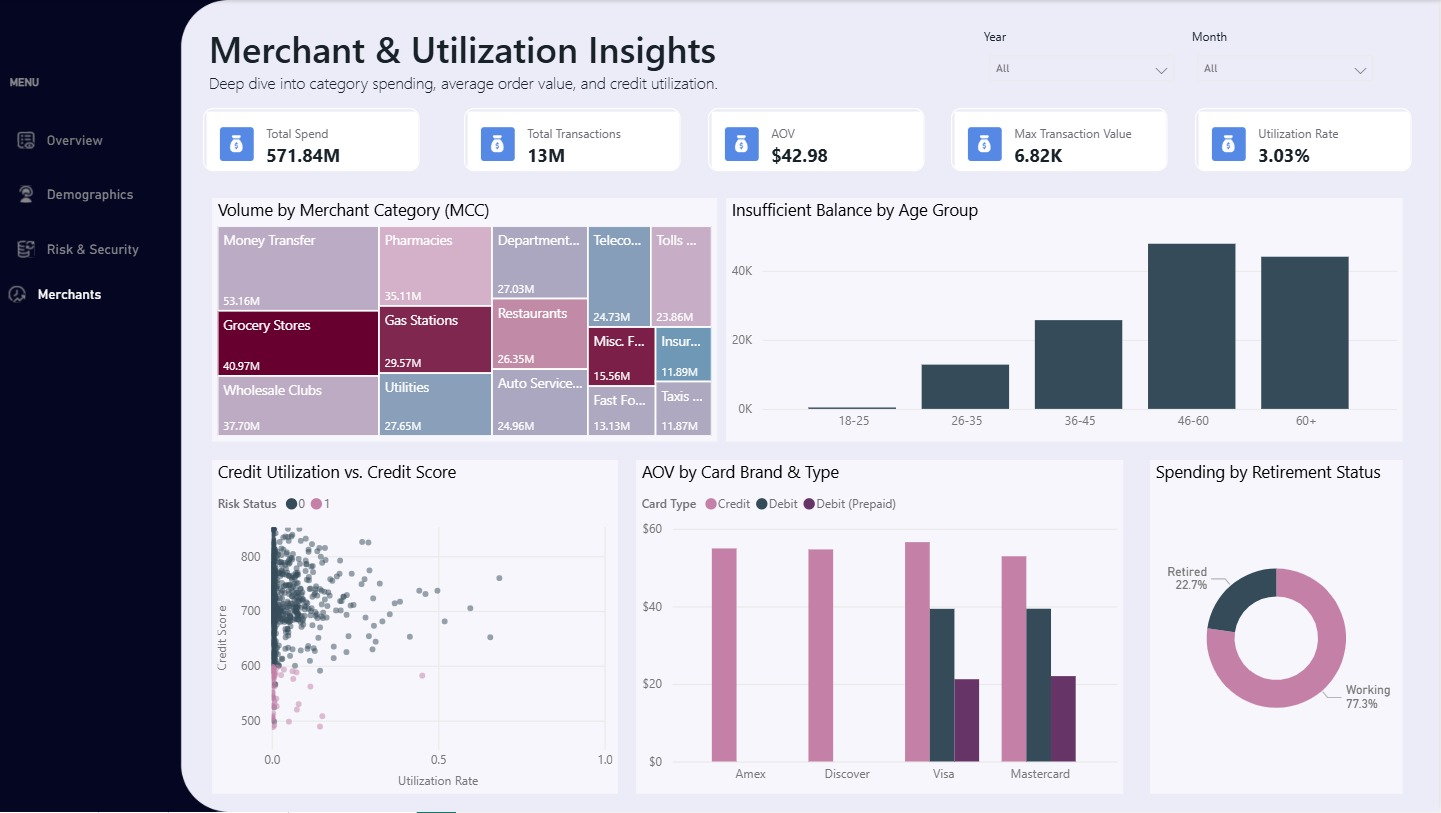

Layout of this report page (visuals, bound fields, positions):
{"tool":"powerbi","page":{"name":"Merchant & Util","canvas":[1280,720],"ordinal":3},"visuals":[{"type":"image","box":[0,0,208,720],"z":0},{"type":"textbox","box":[184,16,632,80],"z":1000},{"type":"slicer","title":"Month","fields":{"Values":["clean_credit_behavior.month"]},"box":[1056,24,176,56],"z":2000},{"type":"slicer","title":"Year","fields":{"Values":["clean_credit_behavior.year"]},"box":[872,24,184,56],"z":3000},{"type":"cardVisual","fields":{"Data":["_Key Measures.Total Volume"]},"box":[184,96,192,56],"z":4000},{"type":"cardVisual","fields":{"Data":["_Key Measures.Total Trx"]},"box":[416,96,192,56],"z":5000},{"type":"cardVisual","fields":{"Data":["_Key Measures.Max Transaction Value"]},"box":[848,96,192,56],"z":6000},{"type":"cardVisual","fields":{"Data":["_Key Measures.AOV"]},"box":[632,96,192,56],"z":7000},{"type":"cardVisual","fields":{"Data":["_Key Measures.Avg Utilization Rate"]},"box":[1064,96,192,56],"z":8000},{"type":"treemap","title":"Volume by Merchant Category (MCC)","fields":{"Values":["_Key Measures.Total Volume"],"Group":["clean_credit_behavior.Merchant Category"]},"box":[192,176,448,216],"z":9000},{"type":"clusteredColumnChart","title":"AOV by Card Brand & Type","fields":{"Category":["clean_credit_behavior.card_brand"],"Series":["clean_credit_behavior.card_type"],"Y":["_Key Measures.AOV"]},"box":[568,408,432,296],"z":10000},{"type":"scatterChart","title":"Credit Utilization vs. Credit Score","fields":{"X":["Avg(clean_credit_behavior.utilization)"],"Y":["Avg(clean_credit_behavior.credit_score)"],"Category":["clean_credit_behavior.client_id"],"Series":["clean_credit_behavior.high_risk"]},"box":[192,408,360,296],"z":11000},{"type":"donutChart","title":"Spending by Retirement Status","fields":{"Category":["clean_credit_behavior.Retirement Status"],"Y":["_Key Measures.Total Volume"]},"box":[1024,408,224,296],"z":12000},{"type":"clusteredColumnChart","title":"Insufficient Balance by Age Group","fields":{"Y":["_Key Measures.Failed Trx"],"Category":["clean_credit_behavior.age_group"]},"box":[648,176,600,216],"z":13000},{"type":"actionButton","box":[8,104,144,40],"z":14000},{"type":"actionButton","box":[8,152,144,40],"z":15000},{"type":"actionButton","box":[8,240,144,40],"z":16000},{"type":"actionButton","box":[8,200,144,40],"z":17000},{"type":"textbox","box":[8,56,144,40],"z":18000}]}

Visuals, with their boxes on the page's 1280x720 design canvas (x1, y1, x2, y2). These are canvas units, not pixel positions in the 1441x813 screenshot, which may show the page scaled, cropped or inside an application window:
image: (0,0,208,720)
textbox: (184,16,816,96)
"Month" slicer: (1056,24,1232,80)
"Year" slicer: (872,24,1056,80)
cardVisual - _Key Measures.Total Volume: (184,96,376,152)
cardVisual - _Key Measures.Total Trx: (416,96,608,152)
cardVisual - _Key Measures.Max Transaction Value: (848,96,1040,152)
cardVisual - _Key Measures.AOV: (632,96,824,152)
cardVisual - _Key Measures.Avg Utilization Rate: (1064,96,1256,152)
"Volume by Merchant Category (MCC)" treemap: (192,176,640,392)
"AOV by Card Brand & Type" clusteredColumnChart: (568,408,1000,704)
"Credit Utilization vs. Credit Score" scatterChart: (192,408,552,704)
"Spending by Retirement Status" donutChart: (1024,408,1248,704)
"Insufficient Balance by Age Group" clusteredColumnChart: (648,176,1248,392)
actionButton: (8,104,152,144)
actionButton: (8,152,152,192)
actionButton: (8,240,152,280)
actionButton: (8,200,152,240)
textbox: (8,56,152,96)
